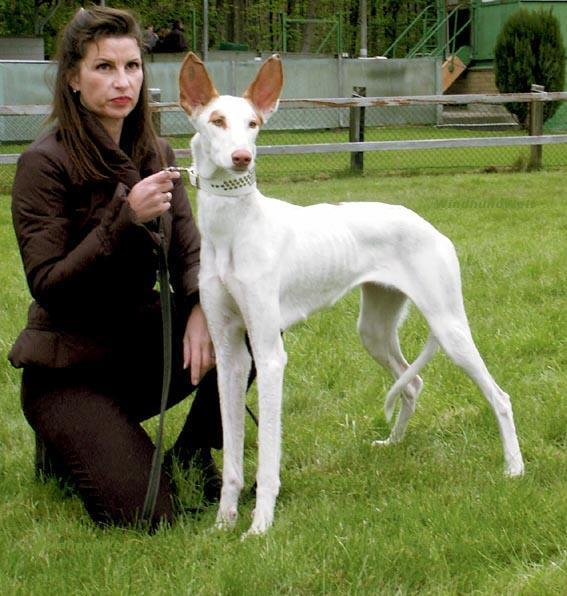Ibizan_hound: (176, 50, 523, 536)
